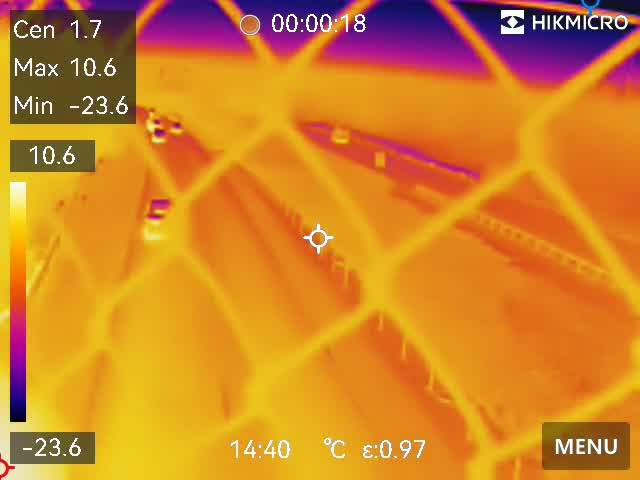vehicle: (144, 187, 171, 250), (151, 130, 166, 145), (170, 120, 183, 136), (148, 116, 160, 131)
